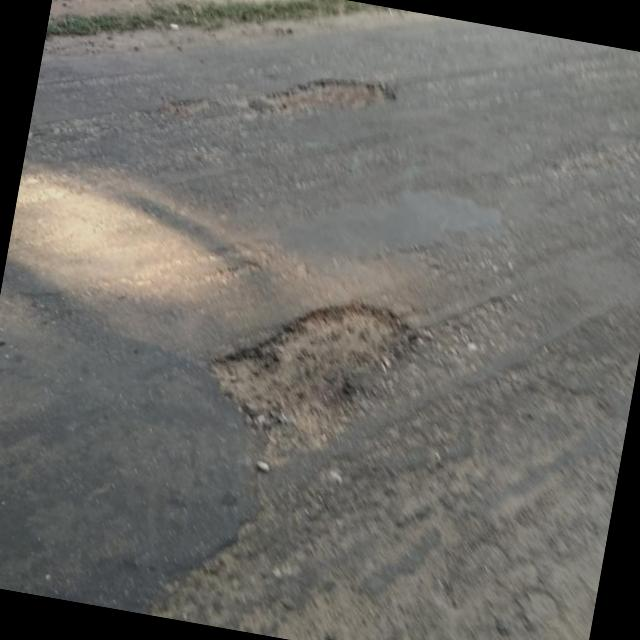Lubang: (211, 302, 418, 464), (247, 79, 395, 116)
